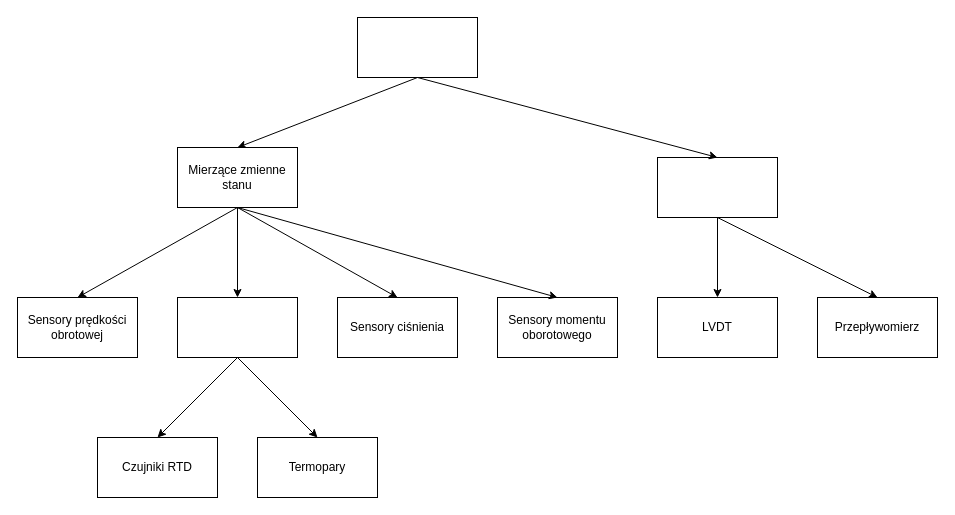
The diagram is 955 pixels wide and 515 high, and some of its shapes have lost their labels. The centre of each missing label's shape, as x and y in pixels:
"Mierzące parametry pracy siłowników" goes at point (717, 187).
"Sensory" goes at point (417, 47).
"Sensory temperatury" goes at point (237, 327).
